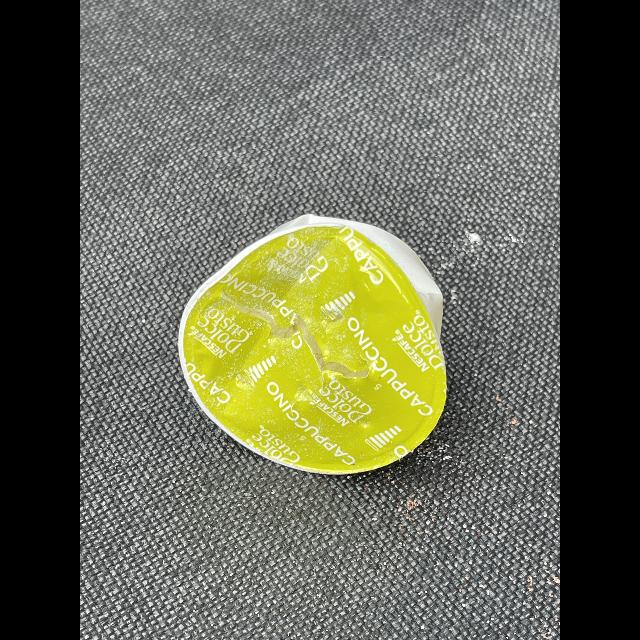damaged_capsule: (168, 190, 477, 498)
